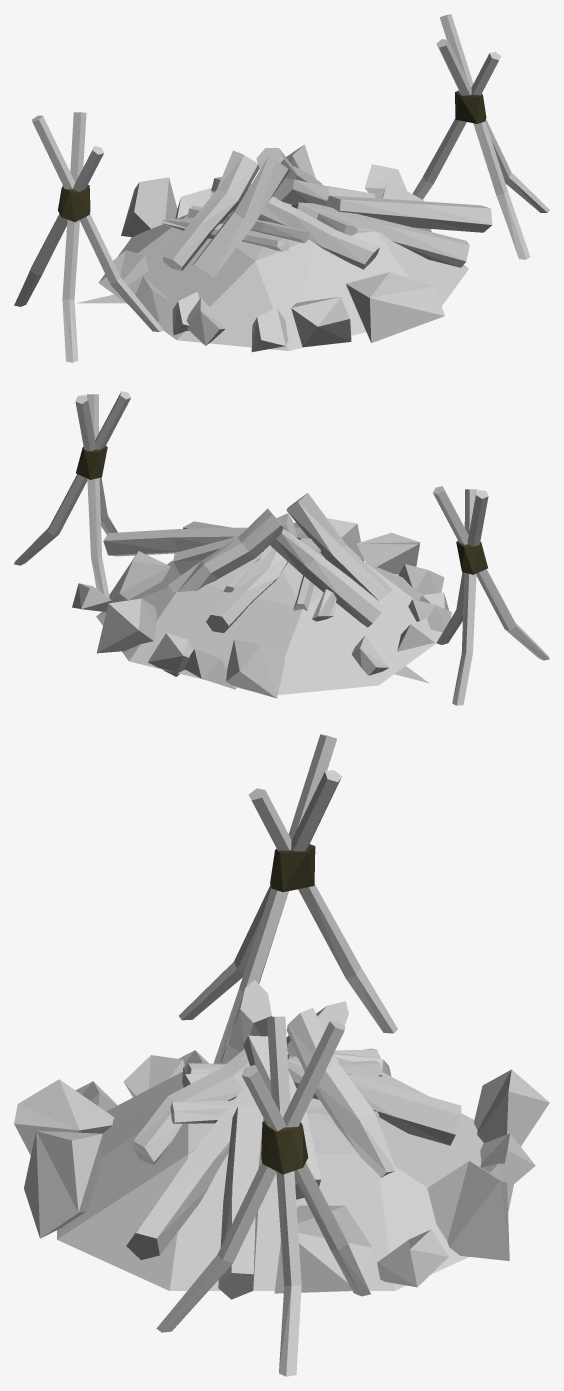
Rendered from OC_FIREPLACEBIG_V01.OBJ.
3 views of the same model, one above another, from view 1: azimuth 30°, elevation 25°; view 2: azimuth 150°, elevation 25°; view 3: azimuth 270°, elevation 25° (orthographic). The views are drawn at different scales.
Parts seen in each view (by area): view 1: OC_FIREPLACEBIG_V01; view 2: OC_FIREPLACEBIG_V01; view 3: OC_FIREPLACEBIG_V01.
Boxes of the visible parts, box(x1,y1,x2,y2) form: OC_FIREPLACEBIG_V01: box(14, 14, 549, 362); OC_FIREPLACEBIG_V01: box(14, 391, 549, 705); OC_FIREPLACEBIG_V01: box(14, 734, 549, 1376).
Bounding box in the file's own units: 3.75 × 1.44 × 2.33.
